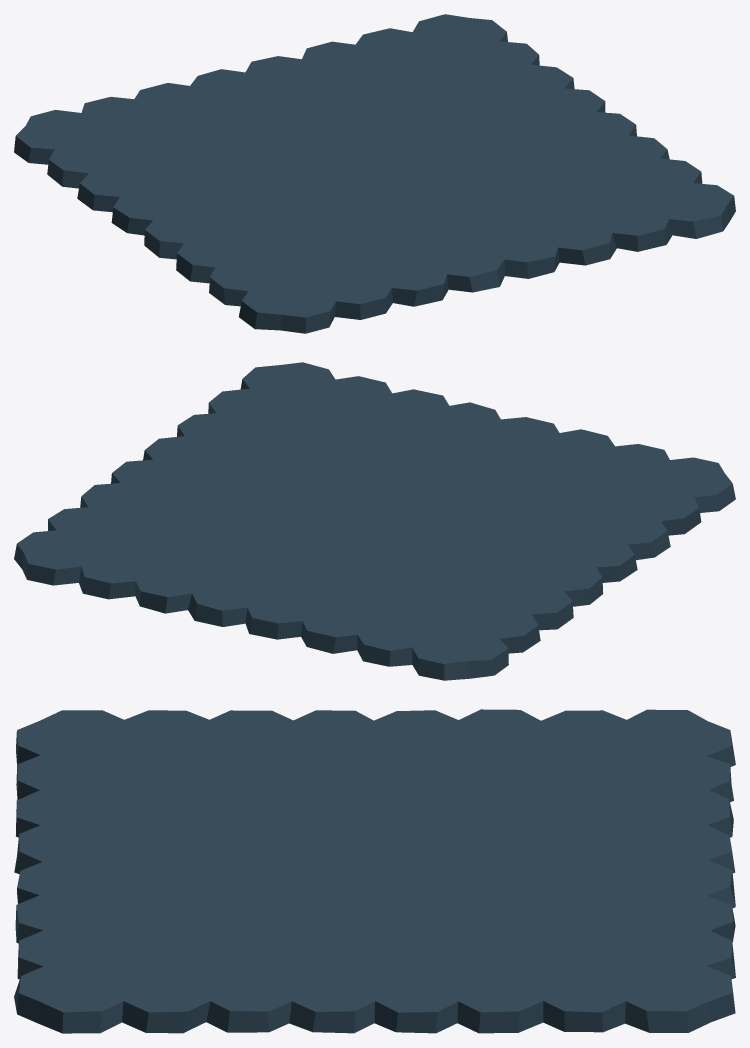
Rendered from SM_Prop_Gym_Mat_01.glb.
3 renders of one model, top to bottom at view 1: azimuth 30°, elevation 25°; view 2: azimuth 150°, elevation 25°; view 3: azimuth 270°, elevation 25°, orthographic. The views are drawn at different scales.
Parts seen in each view (by area): view 1: SM_Prop_Gym_Mat_01; view 2: SM_Prop_Gym_Mat_01; view 3: SM_Prop_Gym_Mat_01.
Boxes of the visible parts, x1,y1,x2,y2 form: SM_Prop_Gym_Mat_01: (14, 14, 735, 333); SM_Prop_Gym_Mat_01: (14, 362, 735, 680); SM_Prop_Gym_Mat_01: (14, 709, 735, 1033).
Size of the model in its own units: 1.08 by 0.0333 by 1.08.
Materials: 1 (1 with a texture image).
